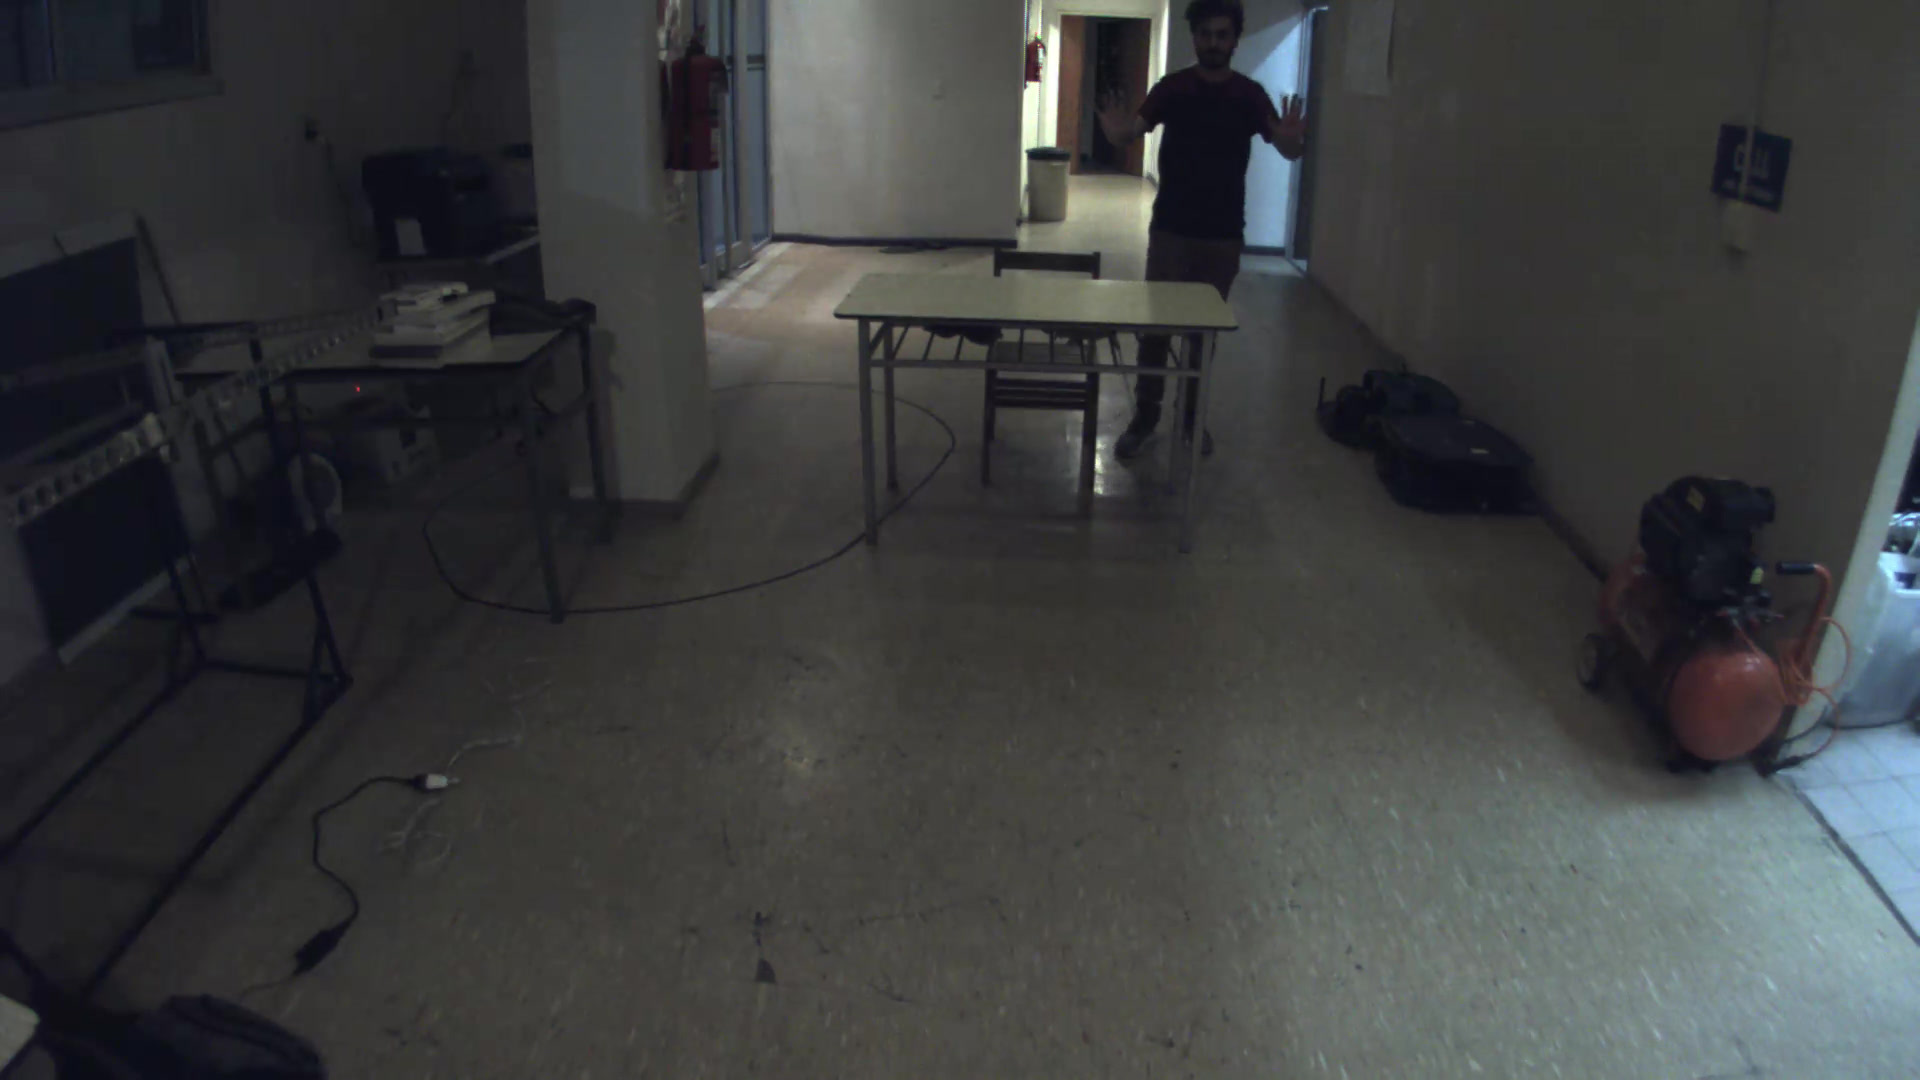hand: (1083, 79, 1151, 146), (1258, 86, 1323, 153)
